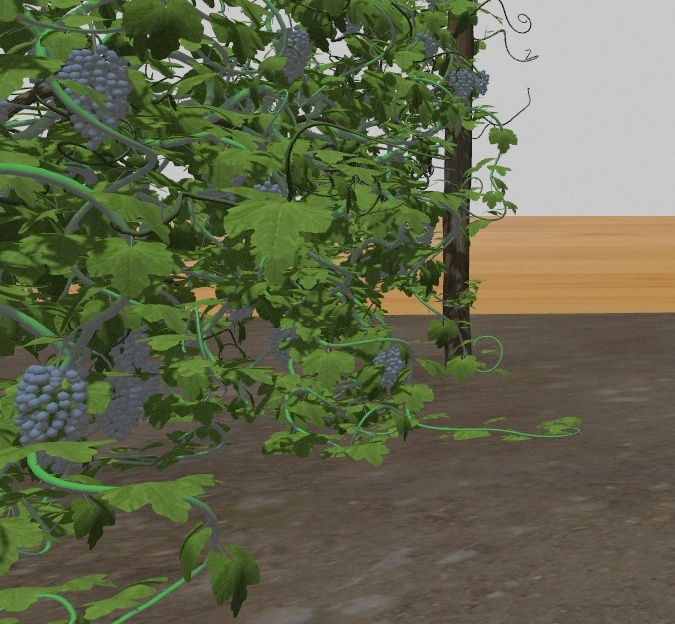grape: (14, 364, 89, 476), (58, 45, 133, 147), (97, 375, 142, 439), (273, 24, 312, 83), (114, 328, 151, 374), (373, 345, 404, 387), (137, 363, 162, 411), (270, 326, 293, 369), (449, 71, 473, 99), (472, 70, 490, 96)
